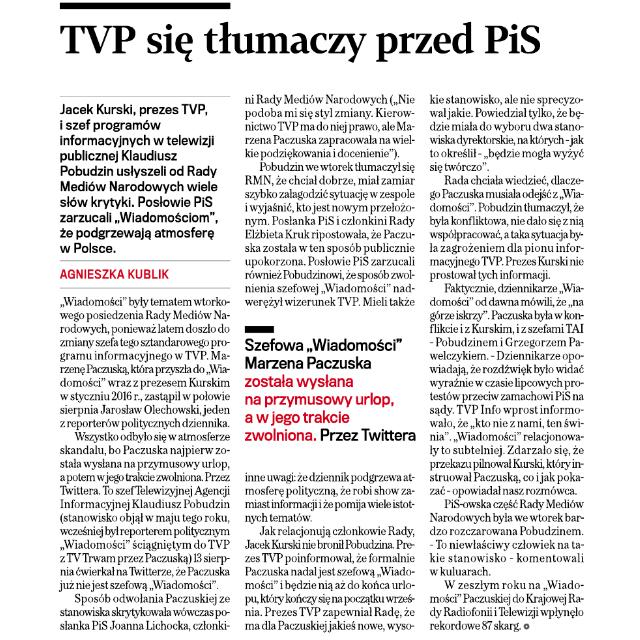author: (55, 264, 177, 284)
body: (424, 90, 590, 634), (54, 296, 234, 636), (238, 92, 422, 312), (241, 468, 419, 636), (238, 321, 418, 447)
lead: (55, 100, 223, 258)
title: (55, 20, 553, 70)
